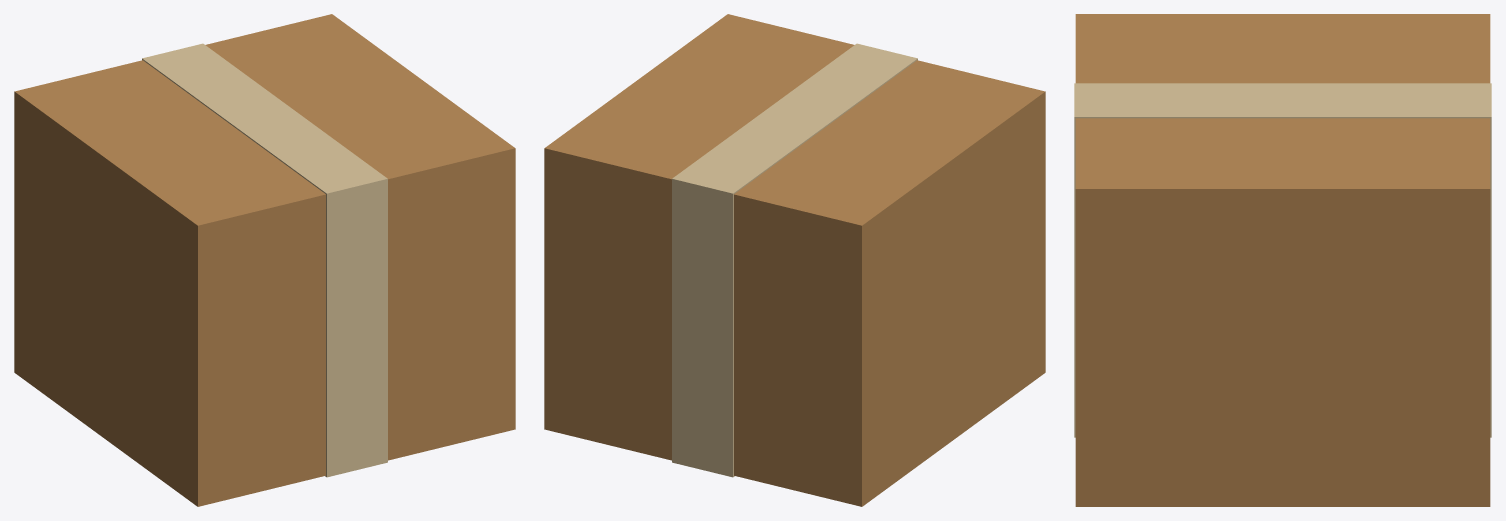
3 renders of one model, left to right at view 1: azimuth 30°, elevation 25°; view 2: azimuth 150°, elevation 25°; view 3: azimuth 270°, elevation 25°, orthographic. The views are drawn at different scales.
Visible parts, largest first — view 1: box-body, box-tape-strip; view 2: box-body, box-tape-strip; view 3: box-body, box-tape-strip.
Boxes of the visible parts, x1,y1,x2,y2 form: box-body: [14, 14, 515, 506]; box-tape-strip: [142, 43, 387, 477]; box-body: [544, 14, 1045, 506]; box-tape-strip: [672, 43, 917, 477]; box-body: [1075, 14, 1490, 506]; box-tape-strip: [1074, 83, 1491, 437].
Size of the model in its own units: 0.26 by 0.222 by 0.262.
